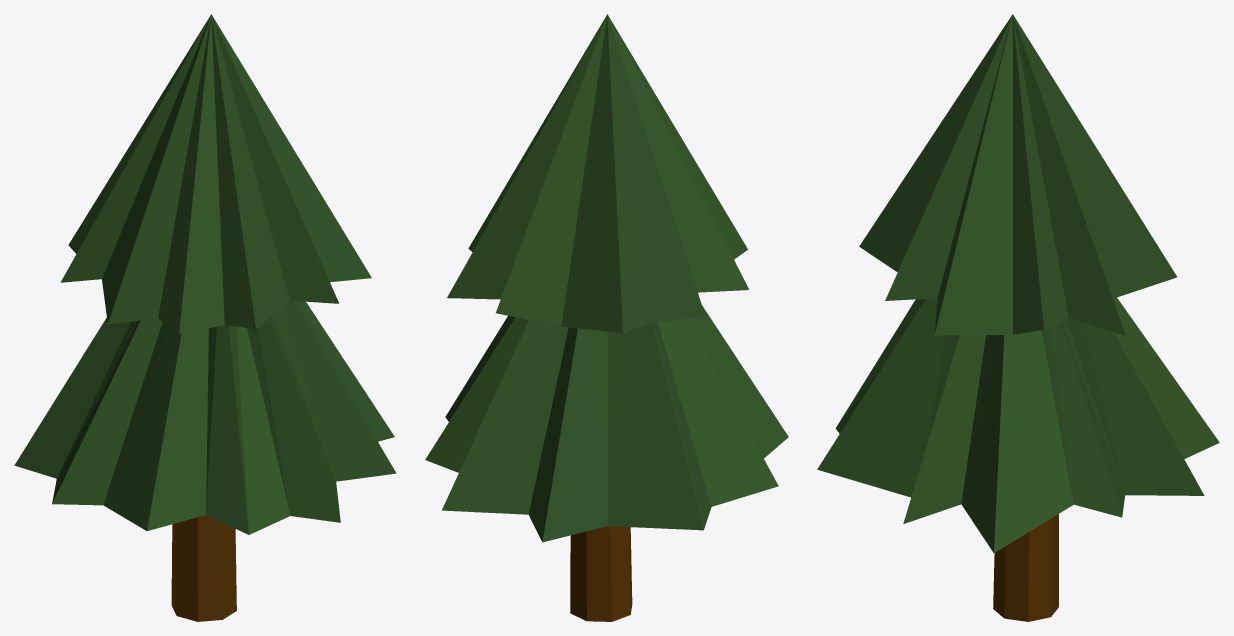
Rendered from Tree1.fbx.
3 renders of one model, left to right at view 1: azimuth 30°, elevation 25°; view 2: azimuth 150°, elevation 25°; view 3: azimuth 270°, elevation 25°, orthographic.
Parts seen in each view (by area): view 1: Tree1; view 2: Tree1; view 3: Tree1.
Boxes of the visible parts, <box> form: Tree1: <box>14,14,396,621</box>; Tree1: <box>425,14,788,621</box>; Tree1: <box>817,14,1219,621</box>.
Size of the model in its own units: 124 by 209 by 128.
